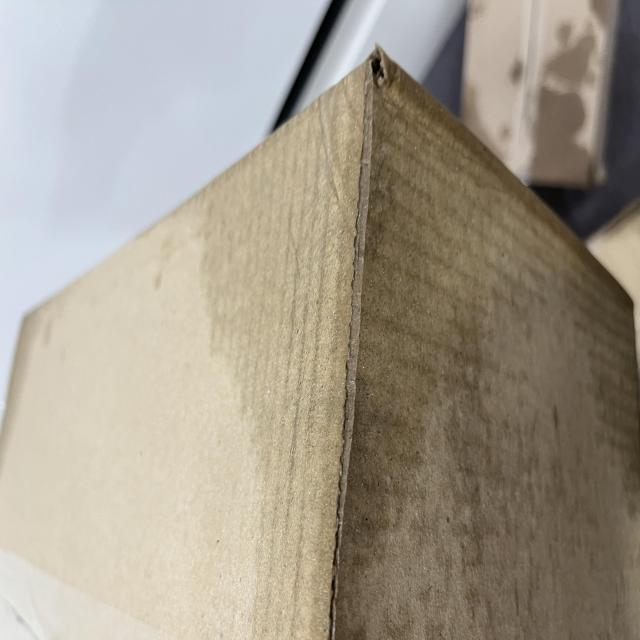wet: (11, 278, 444, 640)
